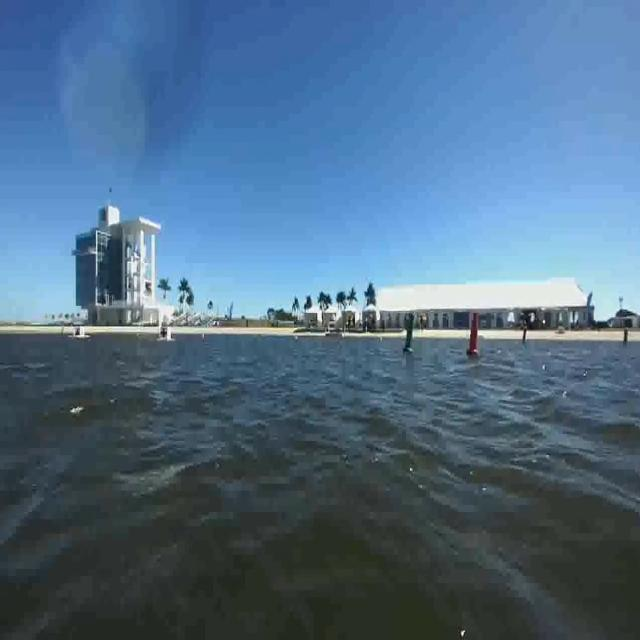green-column-buoy: (400, 302, 420, 357)
red-column-buoy: (464, 309, 480, 356)
